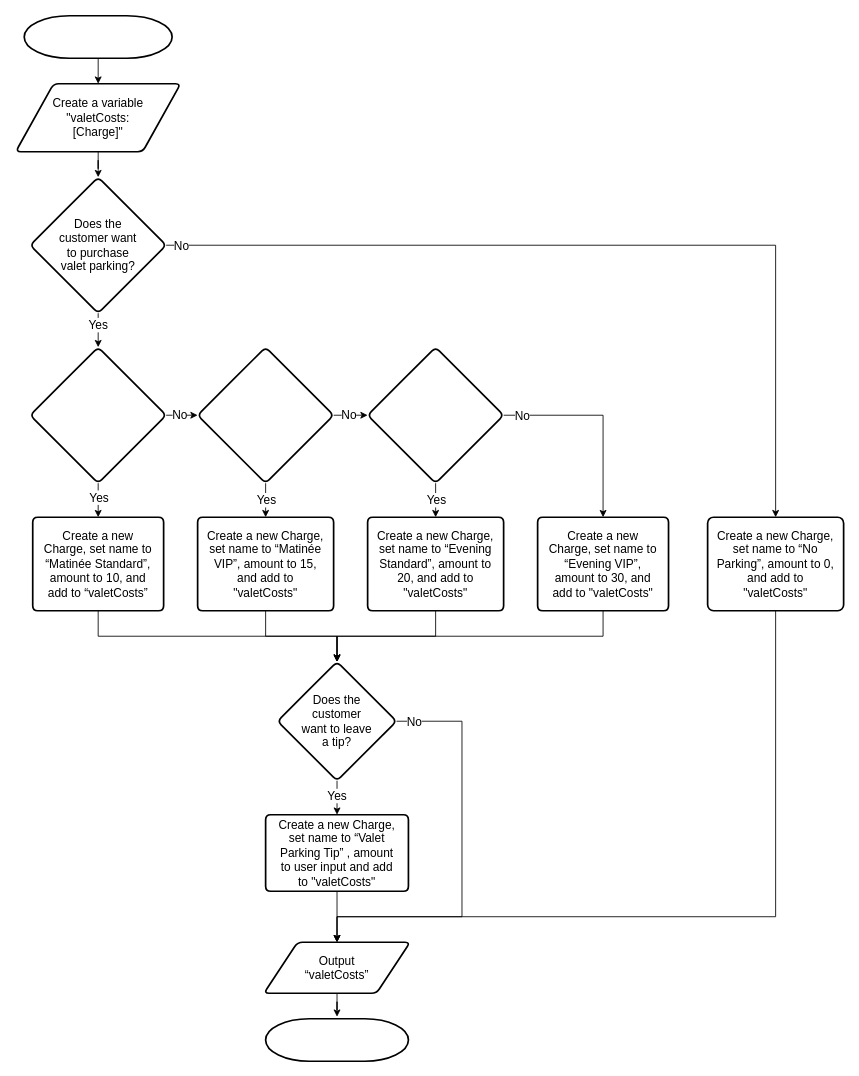
Some shapes in this 859 by 1076 pixel diagram are drawn without their labels. The box of each missing label's shape, as (x1, y1, x2, y2) in pixels:
Does the customer want Evening Standard parking?: (366, 346, 504, 484)
Does the customer want Matinée Standard parking?: (29, 346, 167, 484)
Does the customer want Matinée VIP parking?: (196, 346, 334, 484)
End/Next Step: (264, 1017, 409, 1062)
Start/Previous Step: (23, 14, 173, 59)
